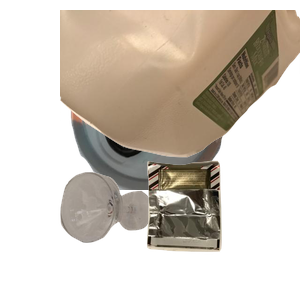glass: (58, 170, 202, 300)
metal: (68, 31, 288, 211)
plastic: (60, 10, 300, 160)
trash: (144, 158, 300, 300)
